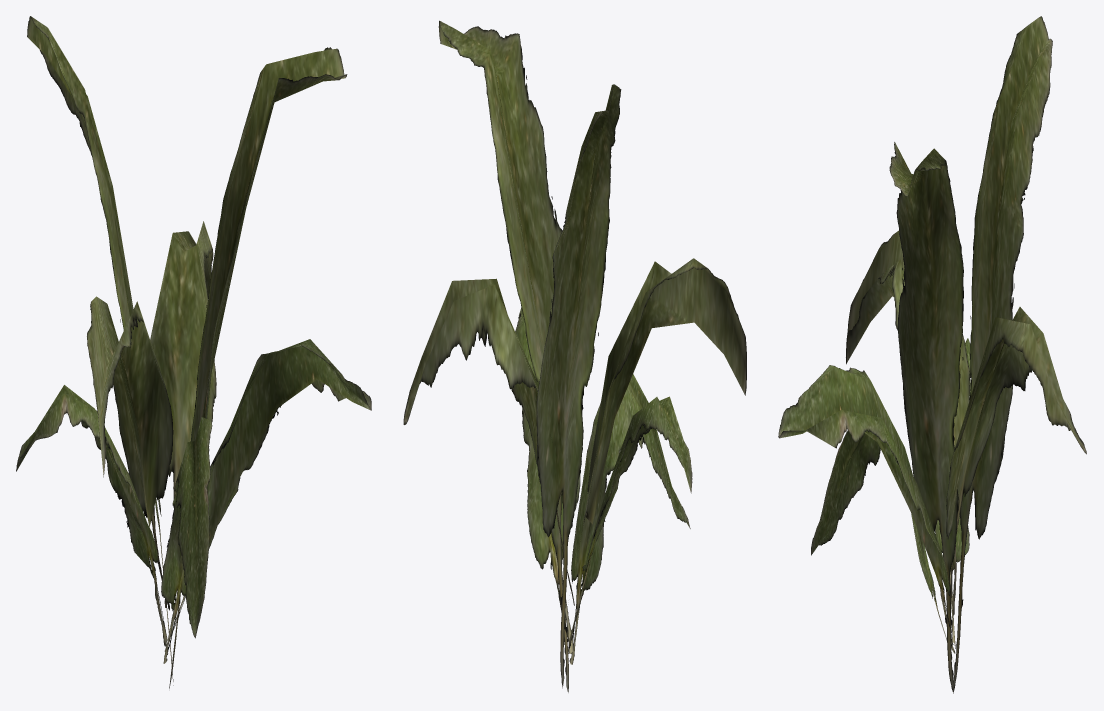
File: flower_gazania_a.fbx
3 renders of one model, left to right at view 1: azimuth 30°, elevation 25°; view 2: azimuth 150°, elevation 25°; view 3: azimuth 270°, elevation 25°, orthographic. The views are drawn at different scales.
Parts seen in each view (by area): view 1: flower_gazania_a; view 2: flower_gazania_a; view 3: flower_gazania_a.
Boxes of the visible parts, x1=… form: flower_gazania_a: x1=16, y1=16, x2=371, y2=688; flower_gazania_a: x1=403, y1=20, x2=746, y2=692; flower_gazania_a: x1=778, y1=16, x2=1086, y2=693.
Bounding box in the file's own units: 0.1382 × 0.3 × 0.1333.
1 material, 1 textured.
